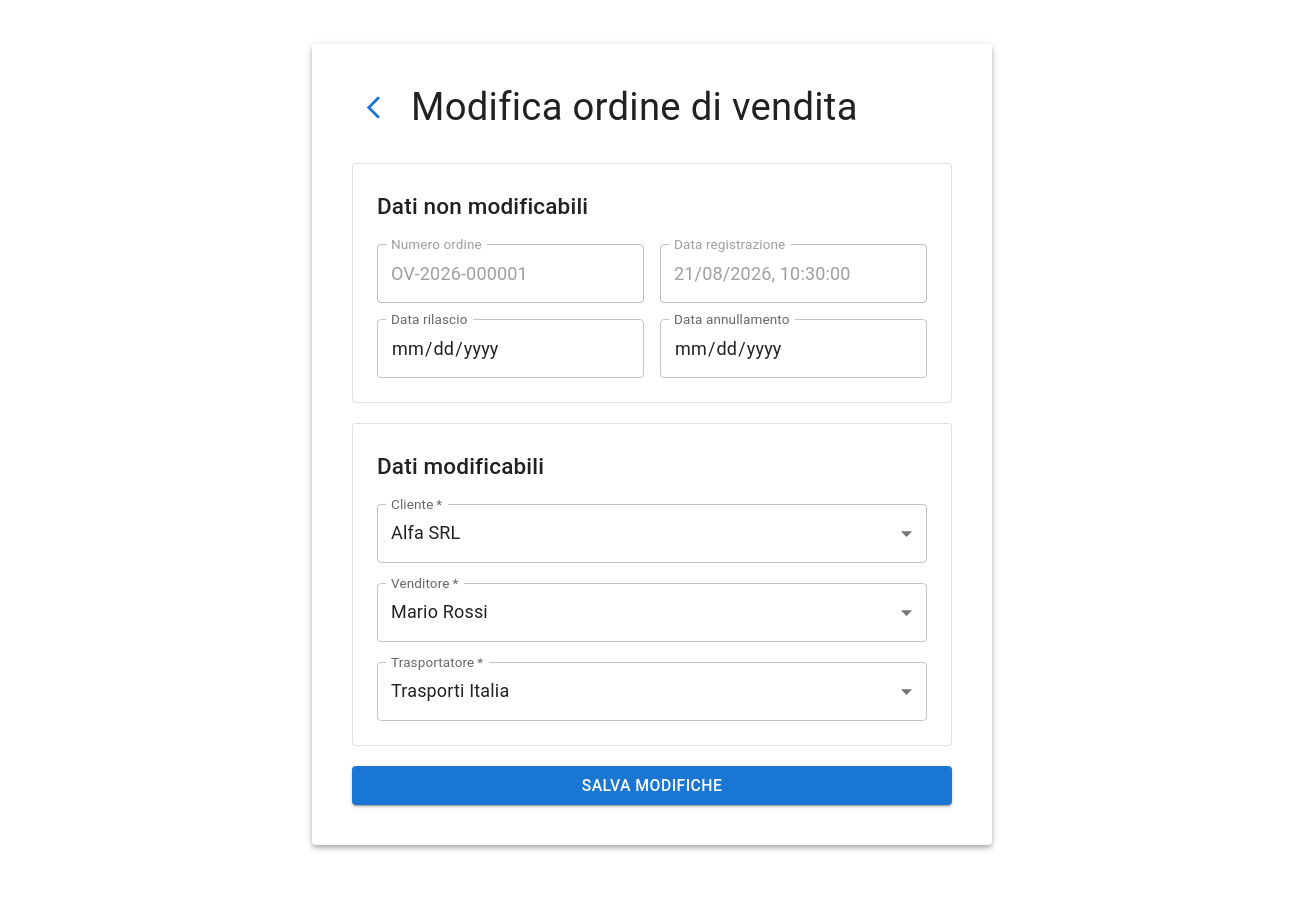
Test: ModificareOrdineVendita › carica, modifica e salva un ordine pendente
Check: the field showing "OV-2026-000001" is shown, box x1=377 y1=244 x2=644 y2=303
Check: the heading "Dati non modificabili" is shown, box x1=377 y1=193 x2=588 y2=219
Select "Beta SPA" in the dropdown labelled "Cliente" at coordinates (652, 533), box x1=377 y1=504 x2=927 y2=563
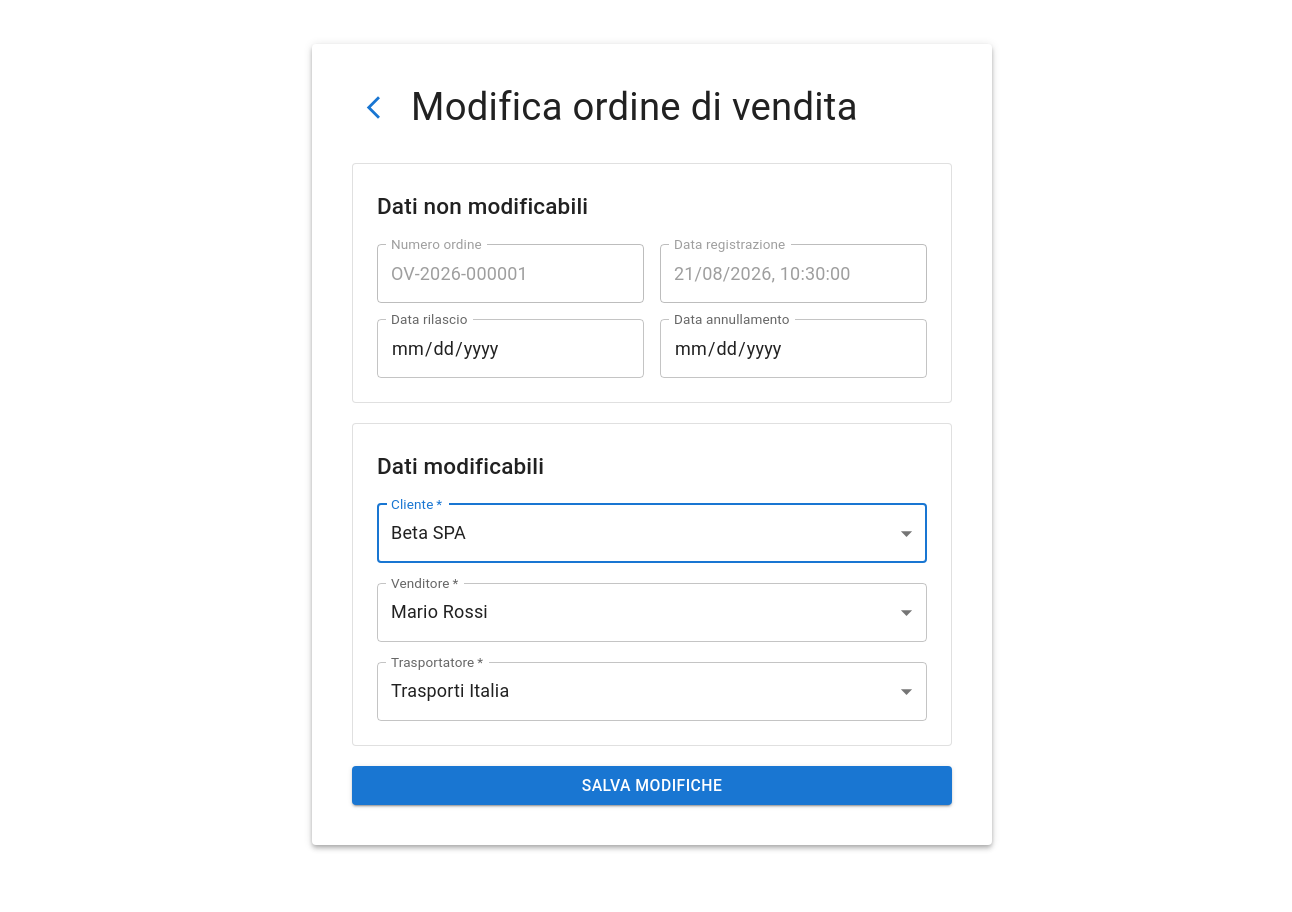
Click the button "Salva modifiche" at coordinates (652, 785), box x1=352 y1=766 x2=952 y2=805
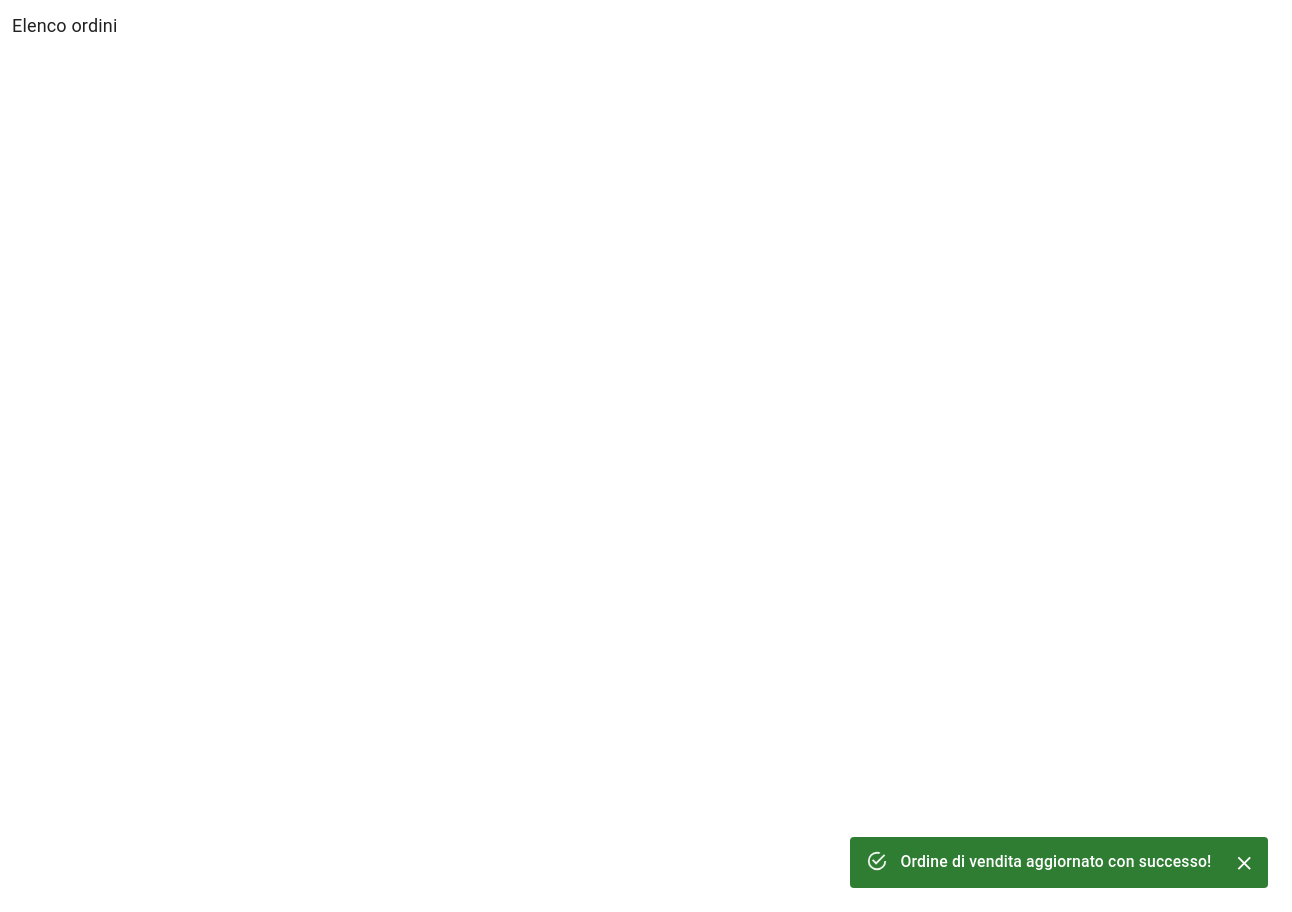
Check: the text "Ordine di vendita aggiornato con successo!" is shown, box x1=900 y1=852 x2=1212 y2=872
Check: the text "Elenco ordini" is shown, box x1=12 y1=15 x2=118 y2=36
